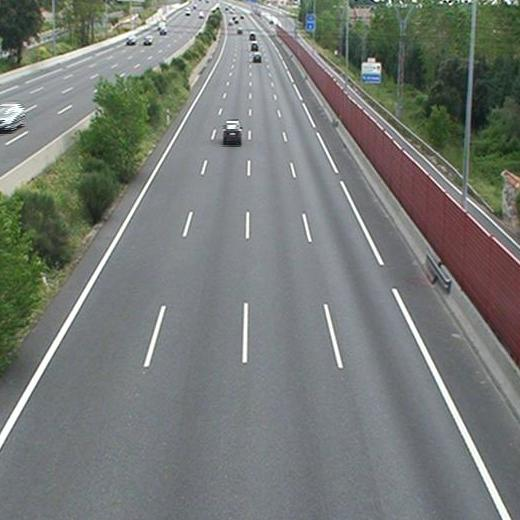car: (224, 120, 242, 142), (253, 52, 261, 61)
